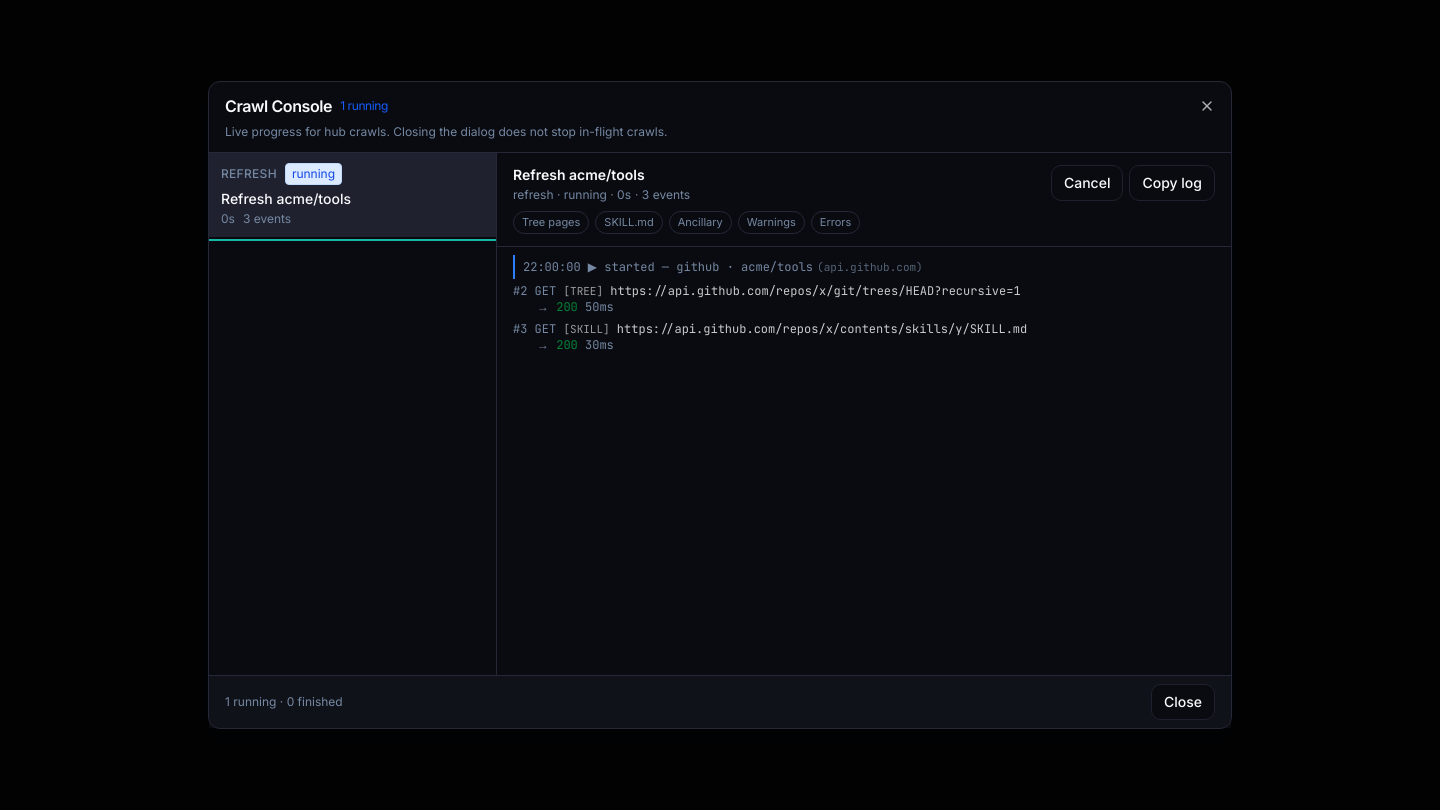
Test: CrawlConsoleDialog — filter chips › hides non-matching events when a filter is active
Check: the text "https://api.github.com/repos/x/git/trees/HEAD?recursive=1" is shown, box [610,282,1021,298]
Check: the text "https://api.github.com/repos/x/contents/skills/y/SKILL.md" is shown, box [617,320,1027,336]
Click the button "Tree pages": (551, 222) [513,211,589,234]
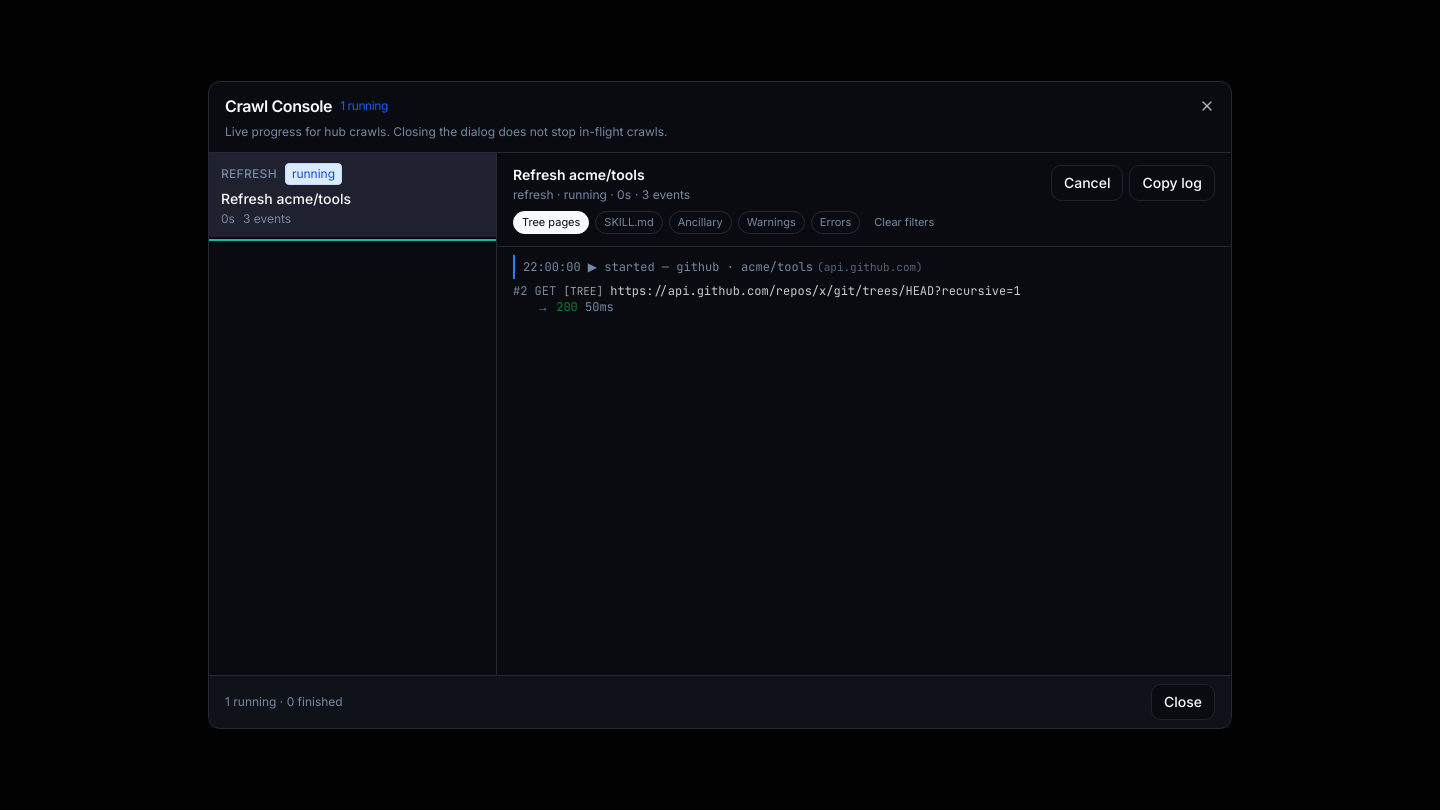
Check: the text "https://api.github.com/repos/x/git/trees/HEAD?recursive=1" is shown, box [610,282,1021,298]
Check: the text "skills/y/SKILL.md" is gone
